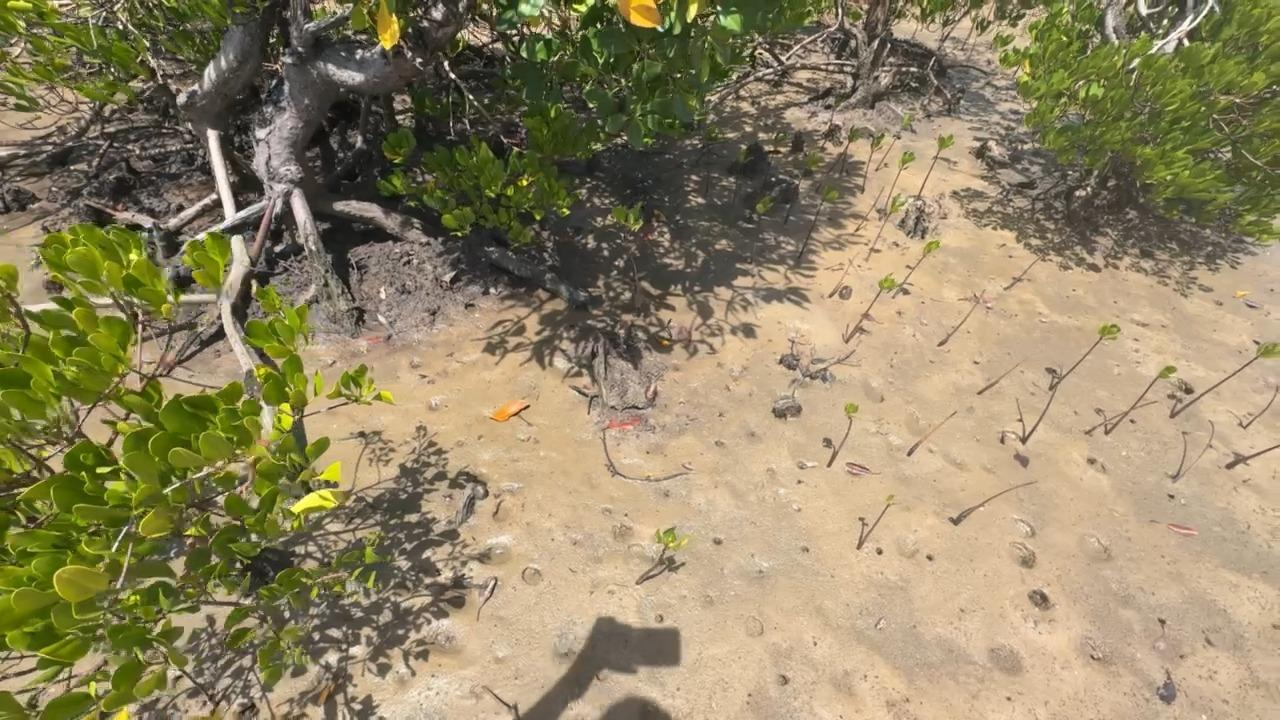Tree: (1166, 340, 1280, 420), (999, 363, 1065, 467), (1093, 362, 1177, 437), (1042, 323, 1121, 390), (840, 271, 899, 345), (947, 479, 1038, 526), (612, 201, 644, 314), (936, 287, 996, 347), (783, 149, 826, 228), (864, 192, 909, 264), (796, 185, 838, 257), (635, 526, 687, 584), (891, 241, 941, 298), (1171, 420, 1215, 482), (825, 124, 875, 176), (917, 132, 955, 200), (722, 144, 754, 224), (823, 403, 860, 469), (876, 112, 916, 171), (906, 411, 957, 457), (856, 493, 896, 550), (881, 151, 916, 211), (1242, 382, 1280, 430), (1002, 252, 1048, 290), (703, 126, 727, 196), (861, 130, 887, 194), (825, 252, 860, 298), (760, 130, 786, 189), (819, 93, 844, 151), (750, 196, 771, 262), (1223, 444, 1280, 468)
